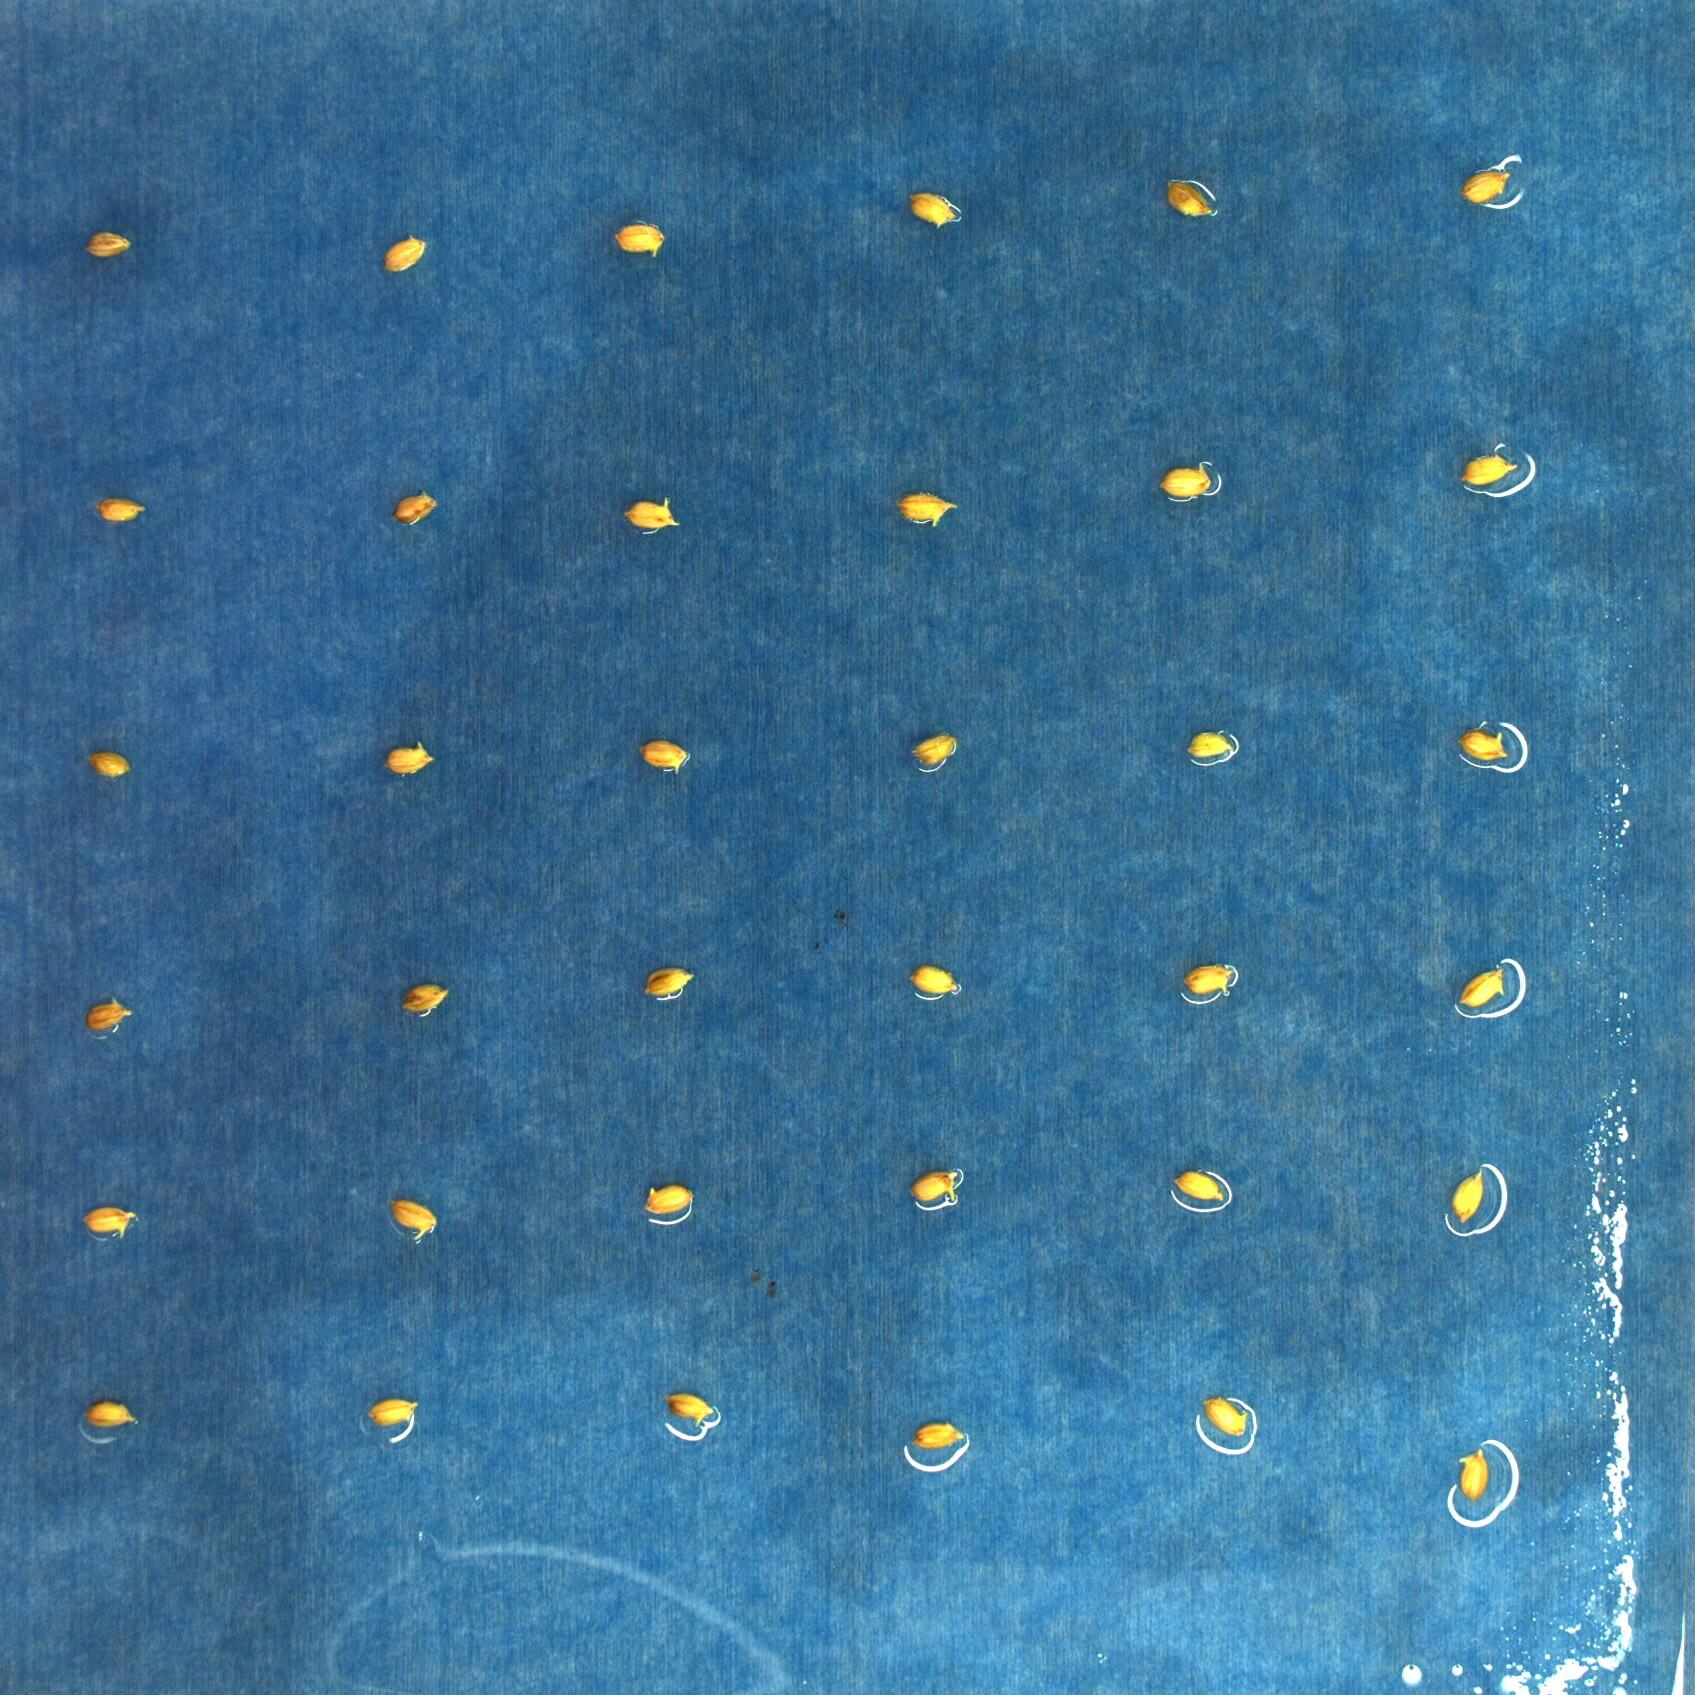not sprout: (1451, 1166, 1485, 1226), (1458, 969, 1506, 1010), (390, 1200, 438, 1240), (1166, 179, 1214, 217), (1461, 168, 1510, 205), (1461, 455, 1518, 486), (615, 224, 664, 259), (81, 1206, 133, 1239), (383, 234, 425, 275), (1205, 1399, 1248, 1437), (911, 192, 958, 228), (641, 739, 688, 775), (1173, 1170, 1225, 1201), (1459, 728, 1507, 761), (1184, 962, 1232, 995), (910, 1170, 958, 1203), (899, 494, 955, 522), (906, 965, 958, 995), (913, 1420, 964, 1450), (1164, 467, 1212, 498), (666, 1395, 712, 1426), (82, 1400, 137, 1426), (368, 1399, 419, 1426), (1459, 1448, 1487, 1499), (644, 969, 692, 998), (644, 1184, 692, 1214), (85, 1000, 130, 1031), (913, 734, 955, 767), (391, 494, 435, 525), (626, 503, 678, 528), (386, 747, 432, 775), (84, 231, 130, 258), (96, 498, 144, 522), (1187, 733, 1232, 757), (404, 986, 445, 1012), (90, 753, 130, 778)
